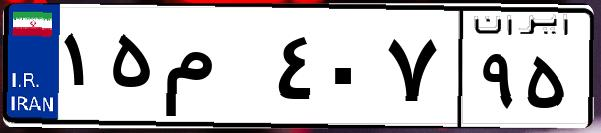0: (330, 28, 385, 110)
1: (57, 26, 110, 100)
4: (270, 28, 330, 110)
5: (525, 38, 570, 115), (110, 28, 158, 98)
7: (385, 28, 445, 110)
9: (475, 38, 525, 113)
م: (158, 20, 270, 120)
